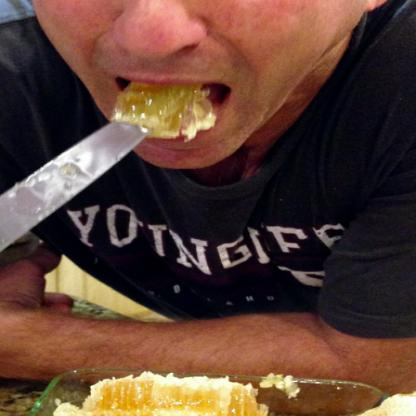knife: (0, 114, 151, 313)
